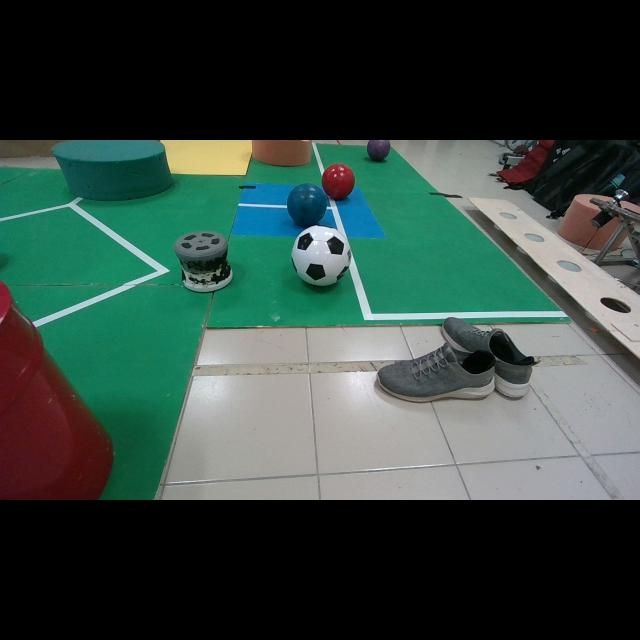B: (286, 184, 328, 227)
P: (366, 140, 390, 161)
R: (321, 164, 355, 199)
